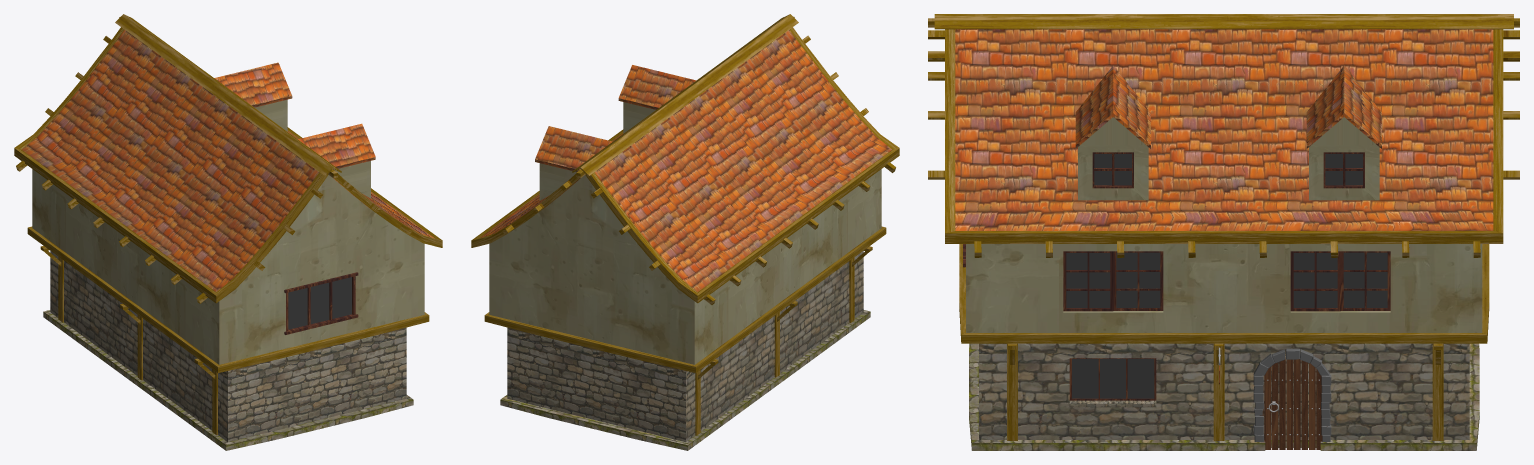
File: Taverna.fbx
3 renders of one model, left to right at view 1: azimuth 30°, elevation 25°; view 2: azimuth 150°, elevation 25°; view 3: azimuth 270°, elevation 25°, orthographic. The views are drawn at different scales.
Parts seen in each view (by area): view 1: Tavern, Tavern.001, Tavern.002, Tavern.003, Cube.011, Tavern.006, Cube.010; view 2: Tavern, Tavern.001, Tavern.002, Tavern.003, Cube.011, Cube.010; view 3: Tavern.001, Tavern, Tavern.002, Tavern.005, Tavern.003, Cube.010, Cube.011, Cube.008, Tavern.004, Cube.012, Cube.009.
Boxes of the visible parts, x1,y1,x2,y2 form: Tavern: [32, 169, 424, 450]; Tavern.001: [22, 30, 434, 291]; Tavern.002: [14, 14, 442, 303]; Tavern.003: [27, 226, 429, 435]; Cube.011: [214, 62, 375, 169]; Tavern.006: [284, 272, 358, 334]; Cube.010: [255, 99, 370, 198]; Tavern: [489, 169, 881, 450]; Tavern.001: [480, 30, 891, 291]; Tavern.002: [471, 14, 899, 304]; Tavern.003: [484, 226, 886, 435]; Cube.011: [535, 65, 696, 171]; Cube.010: [539, 102, 655, 200]; Tavern.001: [955, 29, 1493, 230]; Tavern: [966, 244, 1482, 450]; Tavern.002: [928, 14, 1519, 257]; Tavern.005: [1063, 251, 1390, 311]; Tavern.003: [959, 244, 1489, 440]; Cube.010: [1078, 117, 1379, 200]; Cube.011: [1075, 65, 1381, 148]; Cube.008: [1260, 357, 1327, 449]; Tavern.004: [1069, 358, 1156, 400]; Cube.012: [1092, 152, 1364, 188]; Cube.009: [1253, 348, 1331, 441].
Size of the model in its own units: 822 by 833 by 1193.
